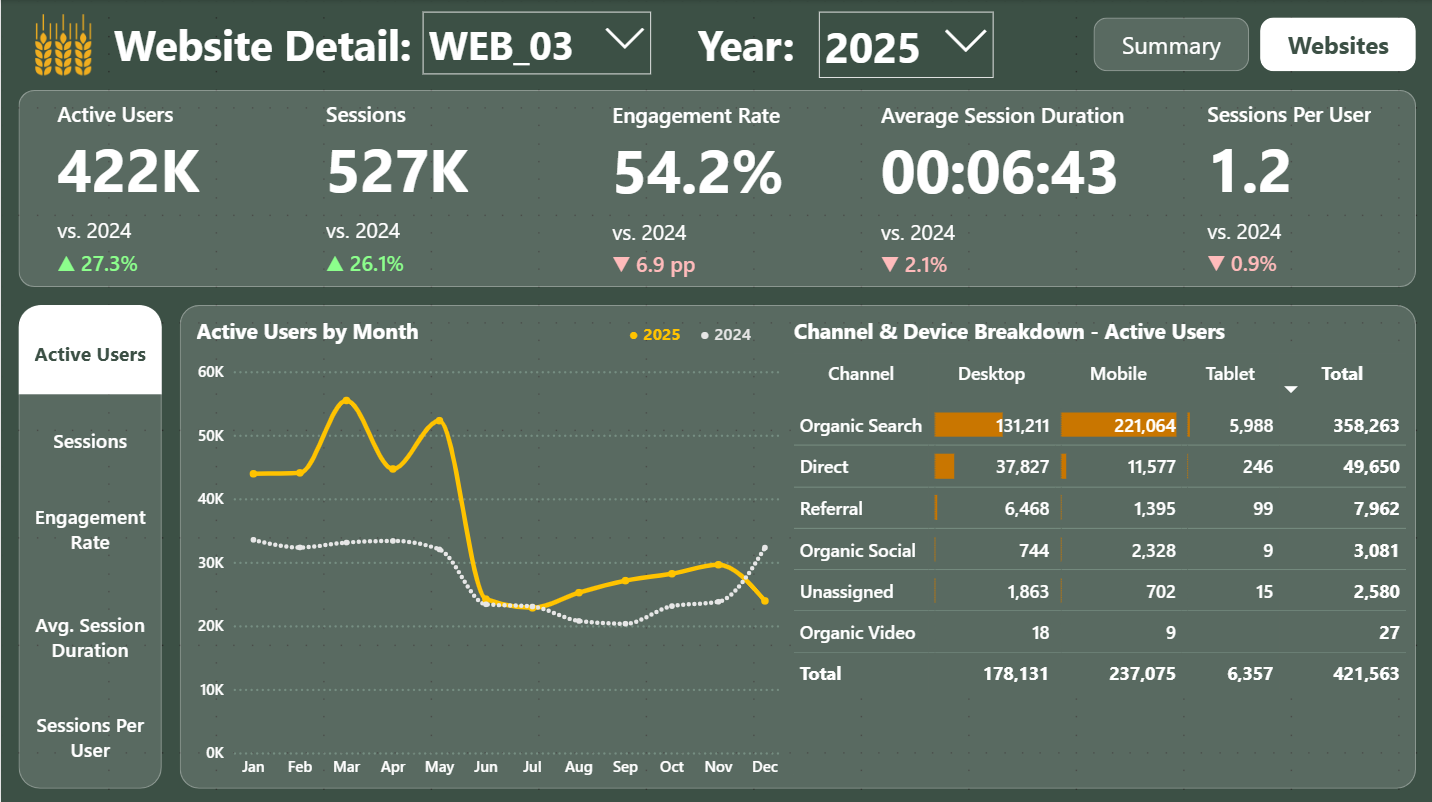

What the dashboard file says about the page in this screenshot:
{"tool":"powerbi","page":{"name":"Websites","canvas":[1280,720],"ordinal":1},"visuals":[{"type":"group","id":"g1","title":"Group 1","box":[40.9,79,1202.1,177],"z":0,"group":"g4"},{"type":"cardVisual","title":"KPI Sessions","fields":{"Data":["data_power_bi.Total Sessions Current Year"]},"box":[280.9,79.3,208,176],"z":0,"group":"g1"},{"type":"shape","box":[16,80,1248,176],"z":0},{"type":"actionButton","title":"Button Active Users","box":[16,272,128,80],"z":0,"group":"g3"},{"type":"pivotTable","title":"Channel & Device Breakdown - Active Users","fields":{"Values":["data_power_bi.Total Active Users Current Year"],"Columns":["data_power_bi.device"],"Rows":["data_power_bi.channel_group"]},"box":[704,272,560,432],"z":0,"group":"g2"},{"type":"cardVisual","fields":{"Data":["data_power_bi.Legend Name Previous Year"]},"box":[608,277,96,32],"z":0,"group":"g6"},{"type":"cardVisual","title":"KPI Avg. Sess. Dur","fields":{"Data":["data_power_bi.Average Session Duration (calculated) Current Year Formatted"]},"box":[776.9,80,256,176],"z":1000,"group":"g1"},{"type":"actionButton","title":"Active Button Active Users","box":[16,272,128,80],"z":1000,"group":"g5"},{"type":"lineChart","title":"Active Users by Month","fields":{"Category":["Calendar.MonthNameShort"],"Y":["data_power_bi.Total Active Users Current Year","data_power_bi.Total Active Users Previous Year"]},"box":[160,272,544,432],"z":1000,"group":"g2"},{"type":"cardVisual","fields":{"Data":["data_power_bi.Legend Name Current Year"]},"box":[544,277,96,32],"z":1000,"group":"g6"},{"type":"actionButton","title":"Button Sessions","box":[16,352,128,80],"z":1000,"group":"g3"},{"type":"cardVisual","title":"KPI Act. Users","fields":{"Data":["data_power_bi.Total Active Users Current Year"]},"box":[40.9,79,208,176],"z":2000,"group":"g1"},{"type":"shape","box":[160,272,1104,432],"z":2000},{"type":"actionButton","title":"Button Engagement rate","box":[16,432,128,80],"z":2000,"group":"g3"},{"type":"cardVisual","title":"KPI Eng. Rate","fields":{"Data":["data_power_bi.Engagement Rate Current Year"]},"box":[536.9,79.6,208,176],"z":3000,"group":"g1"},{"type":"shape","box":[16,272,128,432],"z":3000},{"type":"actionButton","title":"Button Sessions Per User","box":[16,624,128,80],"z":3000,"group":"g3"},{"type":"cardVisual","title":"KPI Sess. Per User","fields":{"Data":["data_power_bi.Sessions Per User Current Year"]},"box":[1067.6,80.3,175.5,175.5],"z":4000,"group":"g1"},{"type":"group","id":"g2","title":"Active Users Group","box":[160,272,1104,432],"z":4000},{"type":"actionButton","title":"Button Average Sessions Duration","box":[16,512,128,112],"z":4000,"group":"g3"},{"type":"group","id":"g3","title":"Buttons","box":[16,272,128,432],"z":6000},{"type":"group","id":"g4","title":"KPI Group","box":[40.9,79,1202.1,177],"z":10000},{"type":"group","id":"g5","title":"Active button Group","box":[16,272,128,432],"z":11000},{"type":"slicer","title":"Slicer_Year","fields":{"Values":["Calendar.Year"]},"box":[720.3,0,176,80],"z":12000},{"type":"group","id":"g6","title":"Legend","box":[544,277,160,32],"z":13000},{"type":"pageNavigator","box":[976,16,288,48],"z":14000},{"type":"textbox","box":[96,0,288,80],"z":15000},{"type":"slicer","title":"Slicer_Website","fields":{"Values":["data_power_bi.website"]},"box":[366,0,224,80],"z":16000},{"type":"textbox","box":[617.3,0,112,80],"z":17000},{"type":"image","box":[16,0,80,80],"z":18000}]}

Visuals, with their boxes in screenshot pixels (x1, y1, x2, y2), scaled from the page's 1280x720 canvas onto the 1432x802 screenshot:
"Group 1" group: [46,88,1391,285]
"KPI Sessions" cardVisual: [314,88,547,284]
shape: [18,89,1414,285]
"Button Active Users" actionButton: [18,303,161,392]
"Channel & Device Breakdown - Active Users" pivotTable: [788,303,1414,784]
cardVisual - data_power_bi.Legend Name Previous Year: [680,309,788,344]
"KPI Avg. Sess. Dur" cardVisual: [869,89,1156,285]
"Active Button Active Users" actionButton: [18,303,161,392]
"Active Users by Month" lineChart: [179,303,788,784]
cardVisual - data_power_bi.Legend Name Current Year: [609,309,716,344]
"Button Sessions" actionButton: [18,392,161,481]
"KPI Act. Users" cardVisual: [46,88,278,284]
shape: [179,303,1414,784]
"Button Engagement rate" actionButton: [18,481,161,570]
"KPI Eng. Rate" cardVisual: [601,89,833,285]
shape: [18,303,161,784]
"Button Sessions Per User" actionButton: [18,695,161,784]
"KPI Sess. Per User" cardVisual: [1194,89,1391,285]
"Active Users Group" group: [179,303,1414,784]
"Button Average Sessions Duration" actionButton: [18,570,161,695]
"Buttons" group: [18,303,161,784]
"KPI Group" group: [46,88,1391,285]
"Active button Group" group: [18,303,161,784]
"Slicer_Year" slicer: [806,0,1003,89]
"Legend" group: [609,309,788,344]
pageNavigator: [1092,18,1414,71]
textbox: [107,0,430,89]
"Slicer_Website" slicer: [409,0,660,89]
textbox: [691,0,816,89]
image: [18,0,107,89]
